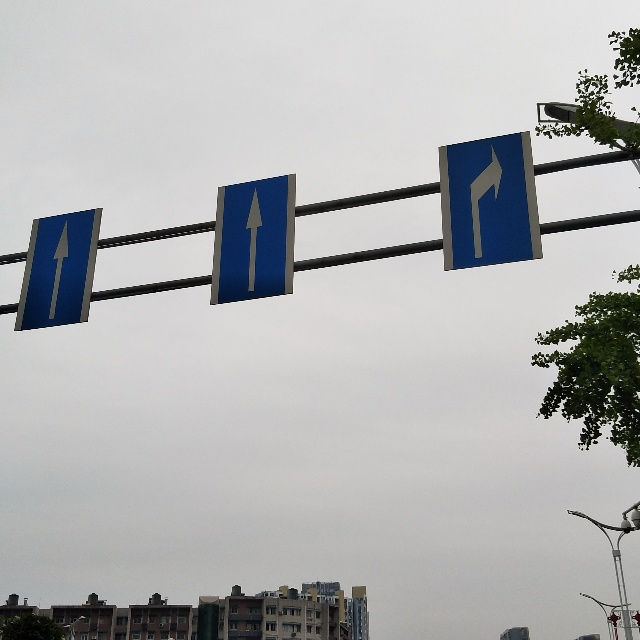right: (444, 142, 529, 264)
straight: (217, 183, 290, 302), (29, 216, 93, 327)
